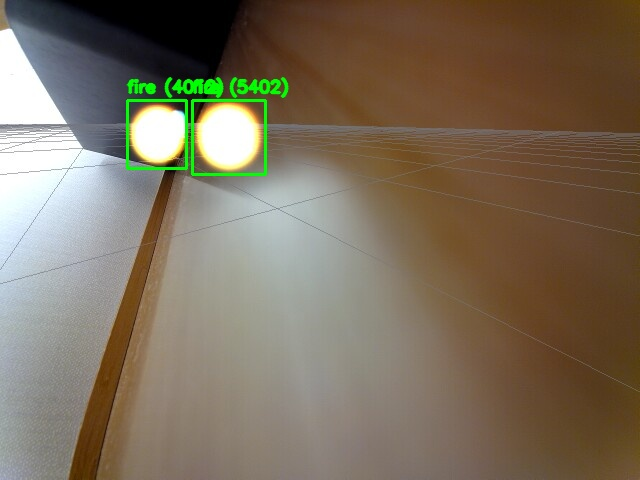fire: (192, 100, 265, 174), (127, 100, 186, 168)
